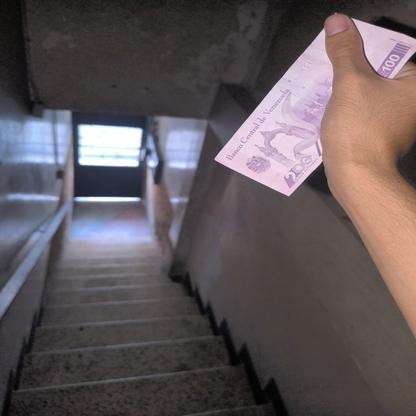one_hundred-back-vef: (213, 16, 416, 197)
